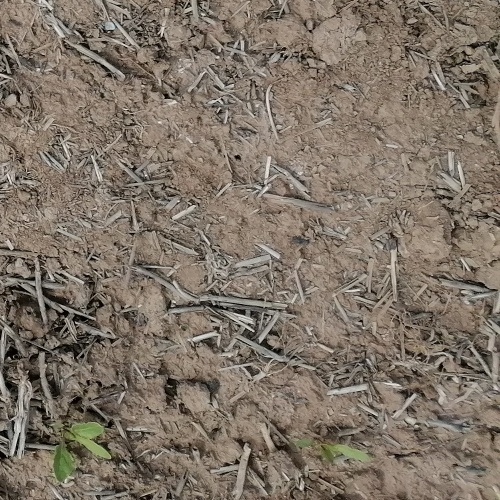beet: (50, 421, 113, 485), (298, 436, 365, 463)
